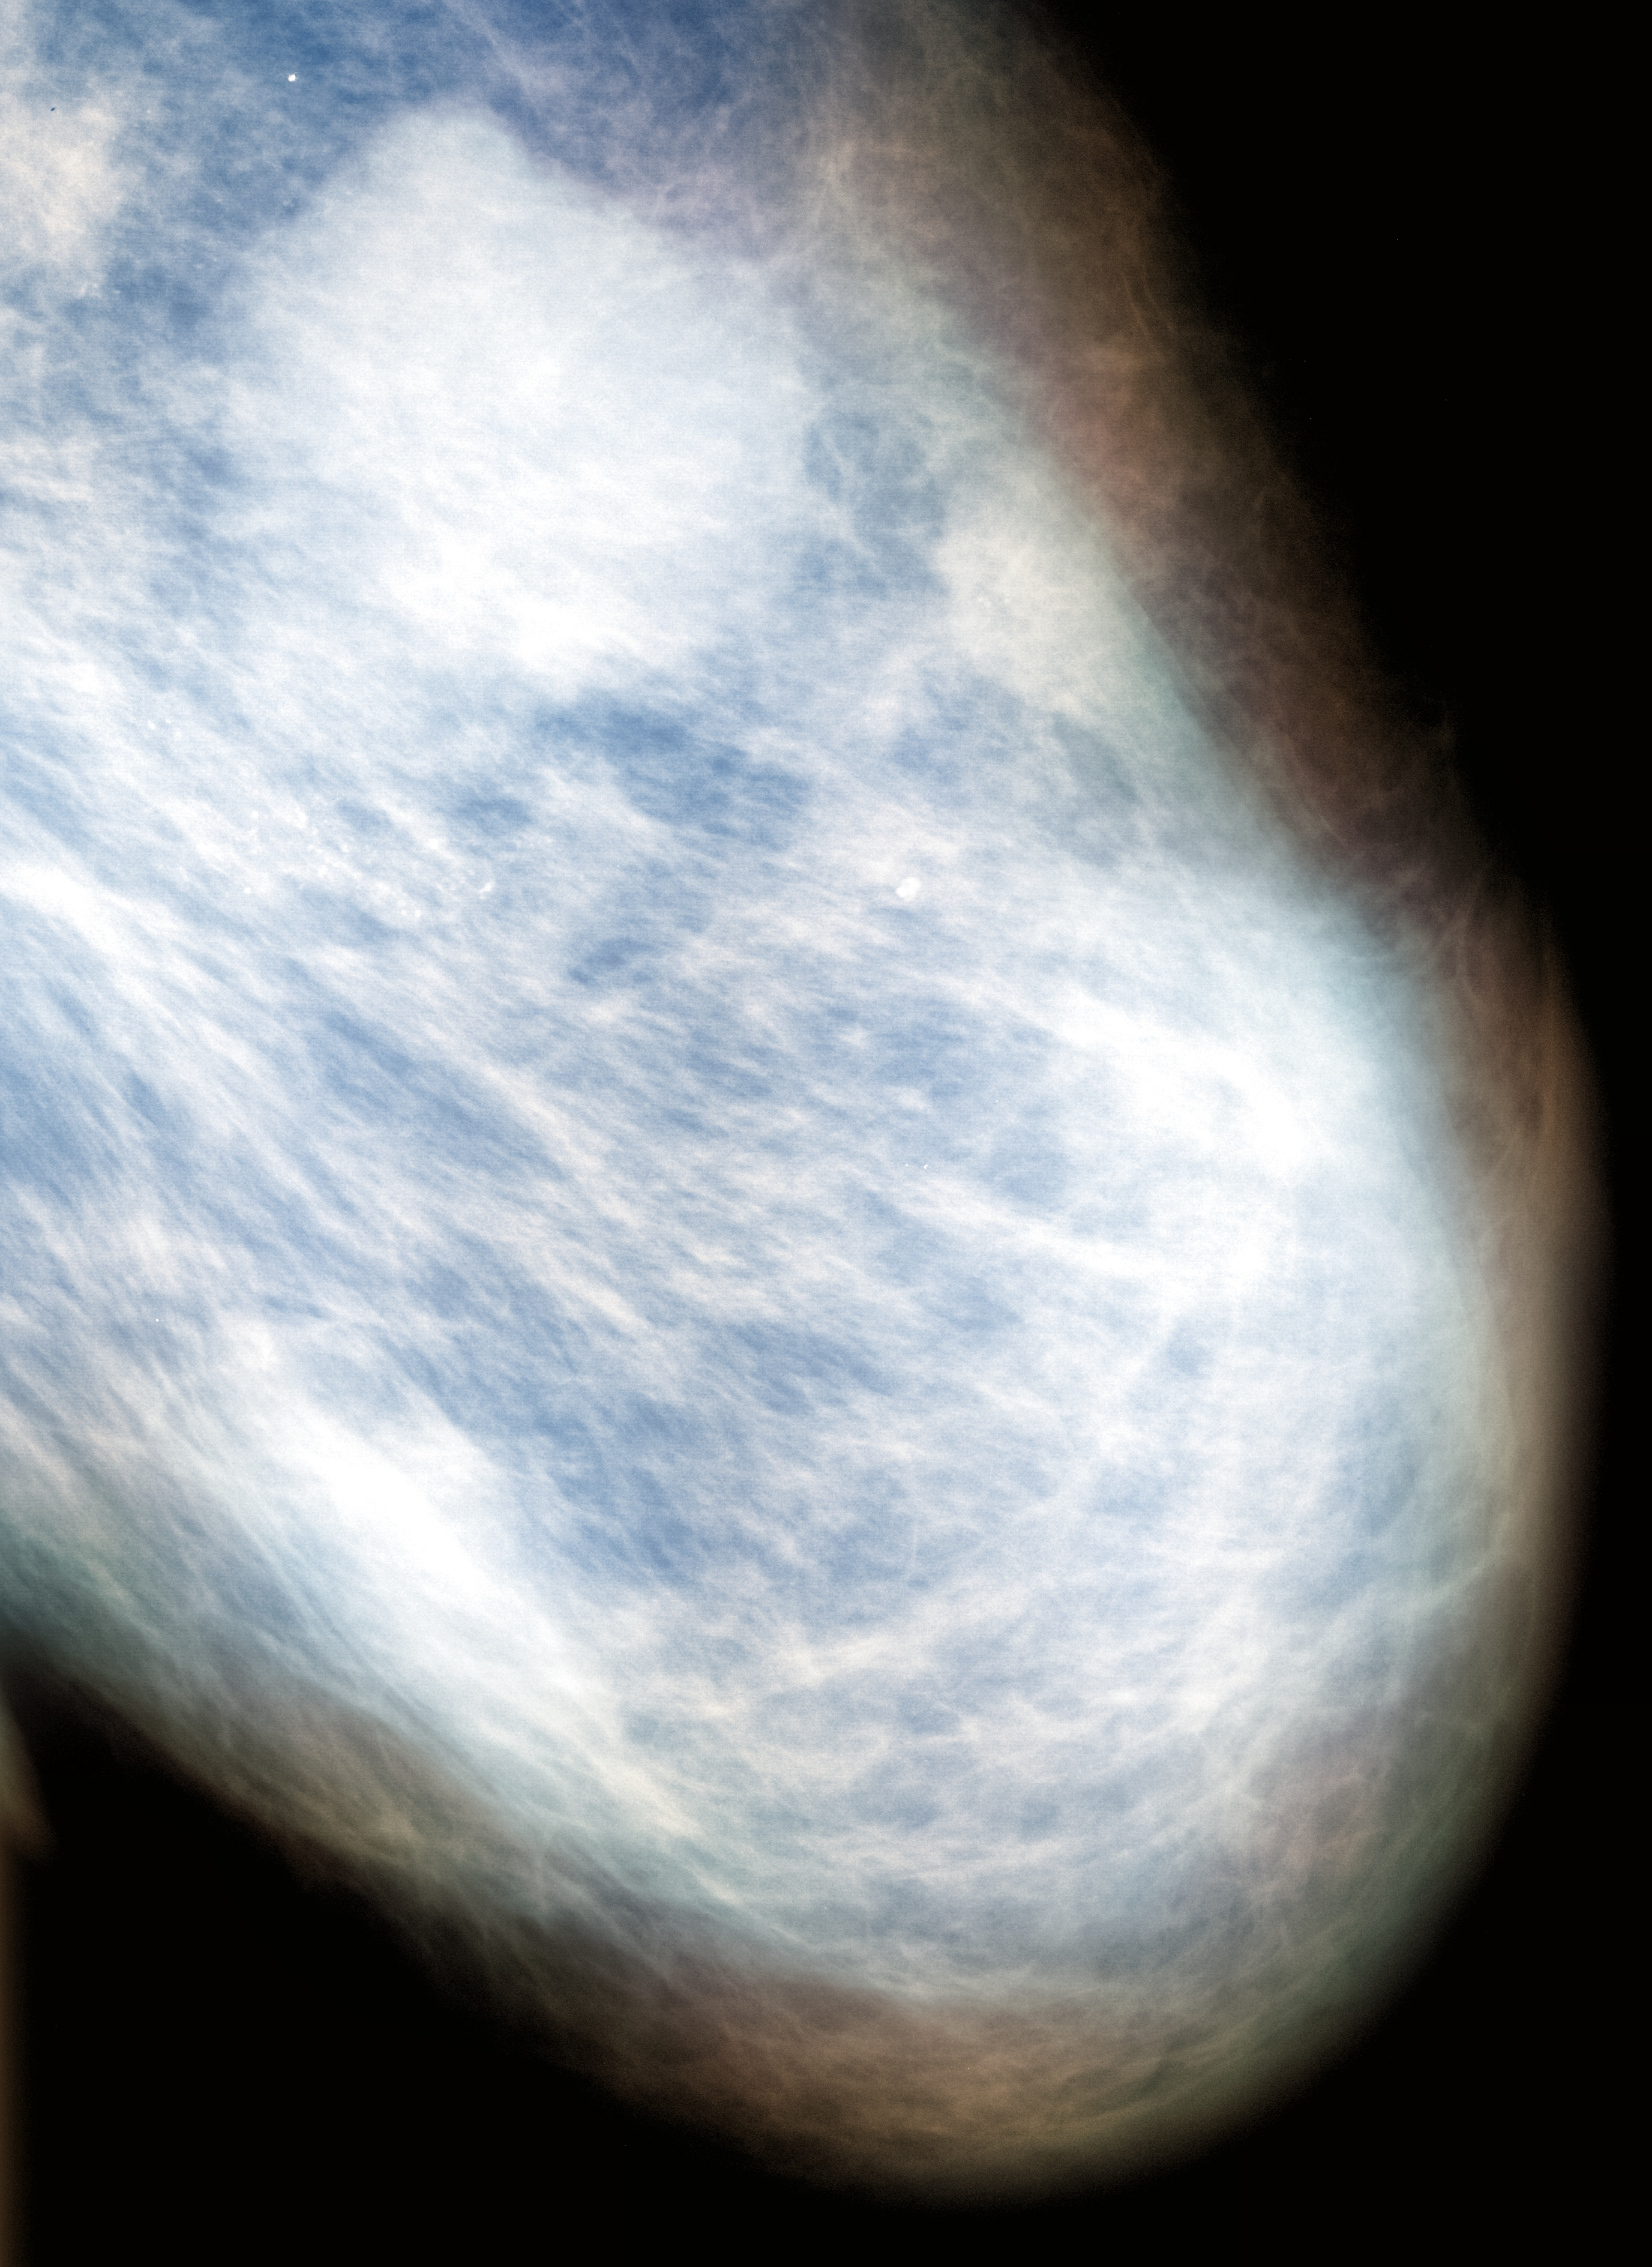tumor: (0, 0, 1652, 2267)
